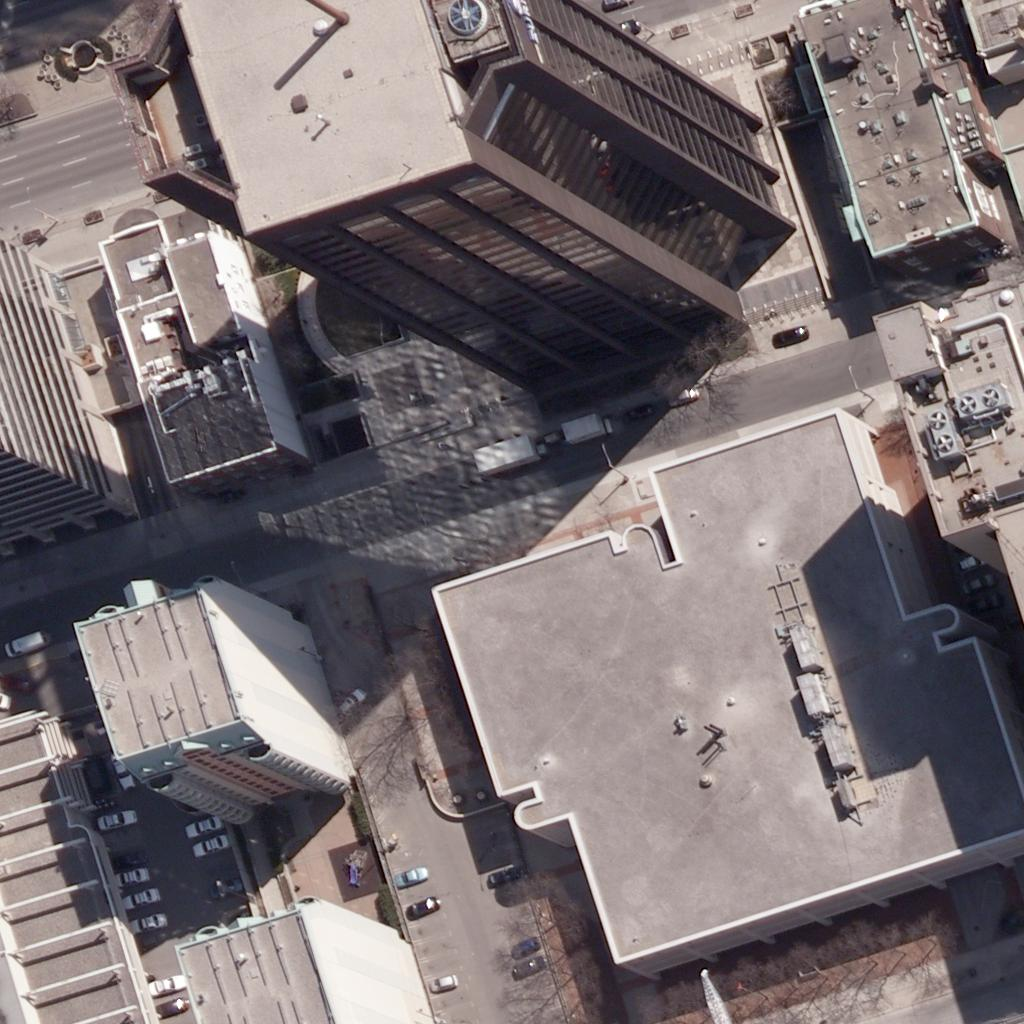car: (610, 8, 644, 42), (956, 256, 990, 290), (773, 318, 807, 352), (664, 380, 698, 414), (622, 393, 656, 427), (953, 545, 987, 579), (959, 563, 993, 597), (965, 584, 999, 618), (1, 625, 35, 659), (331, 686, 365, 720), (103, 751, 137, 785), (94, 804, 128, 838), (187, 806, 221, 840), (193, 825, 227, 859), (391, 855, 425, 889), (115, 858, 149, 892), (206, 871, 240, 905), (122, 880, 156, 914), (403, 887, 437, 921), (129, 903, 163, 937), (508, 929, 542, 963), (508, 948, 542, 982), (428, 961, 462, 995), (141, 970, 175, 1004), (152, 990, 186, 1024), (0, 666, 33, 700), (596, 0, 630, 17)
